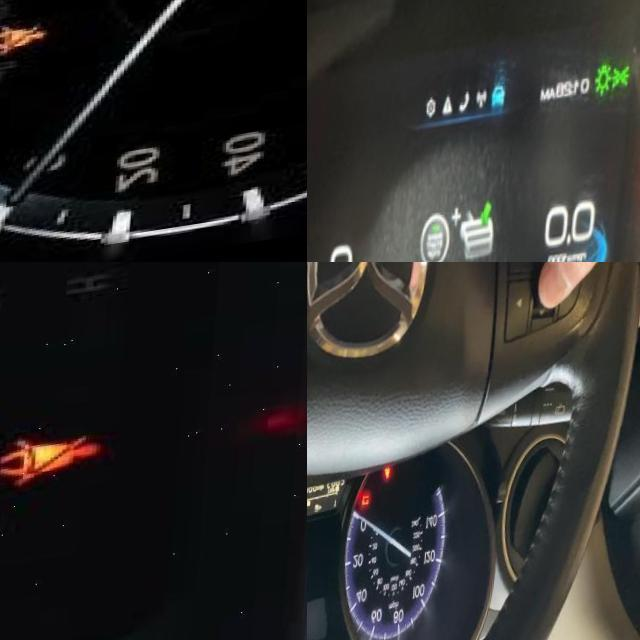Seat Belt: (3, 442, 106, 494), (0, 29, 54, 68)
